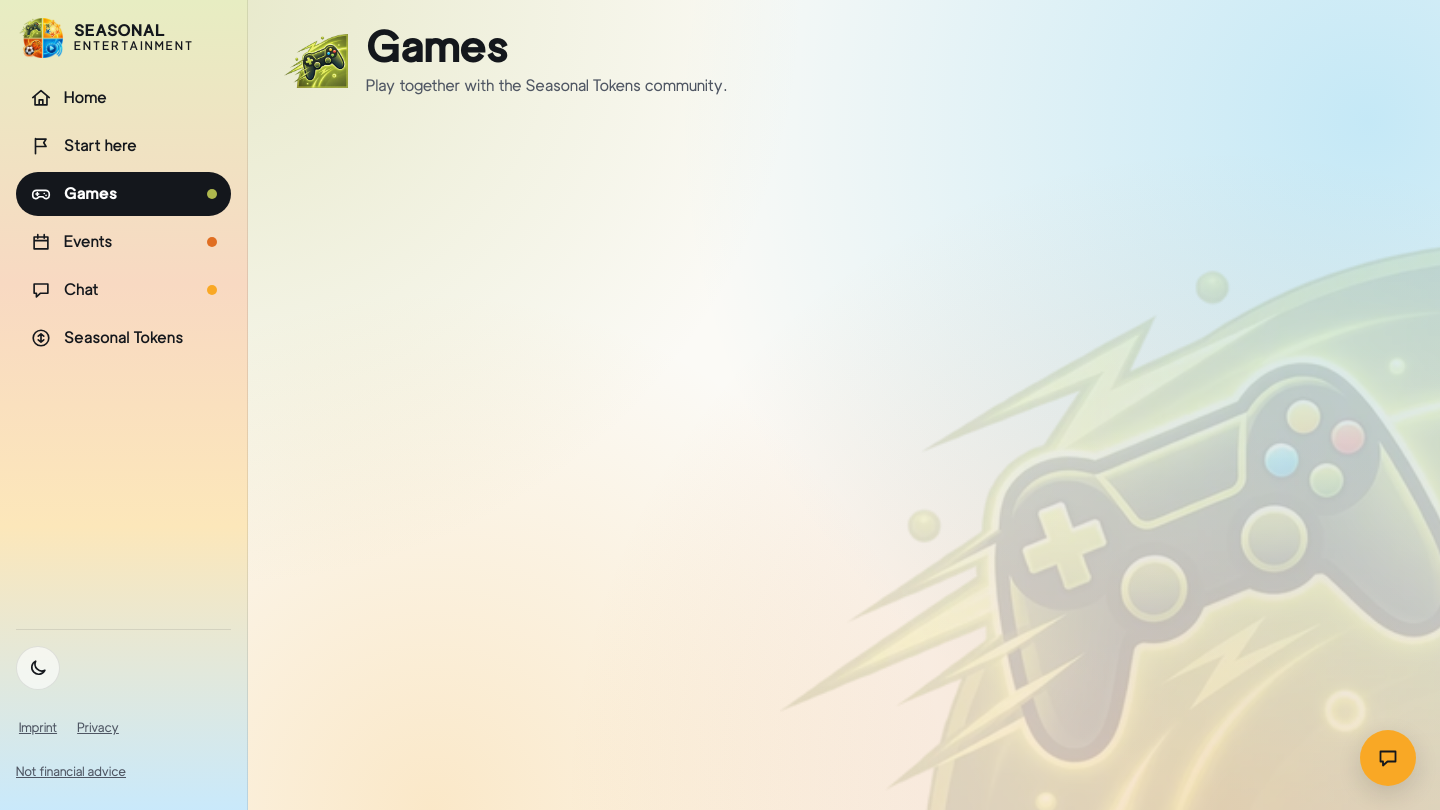
Scenario: a locked device asks to unlock in the Direct tab
What coordinates should you click on to do the following:
click the button named "Chat"
I would click on:
 (1388, 758)
Its box is [1360,730,1416,786].
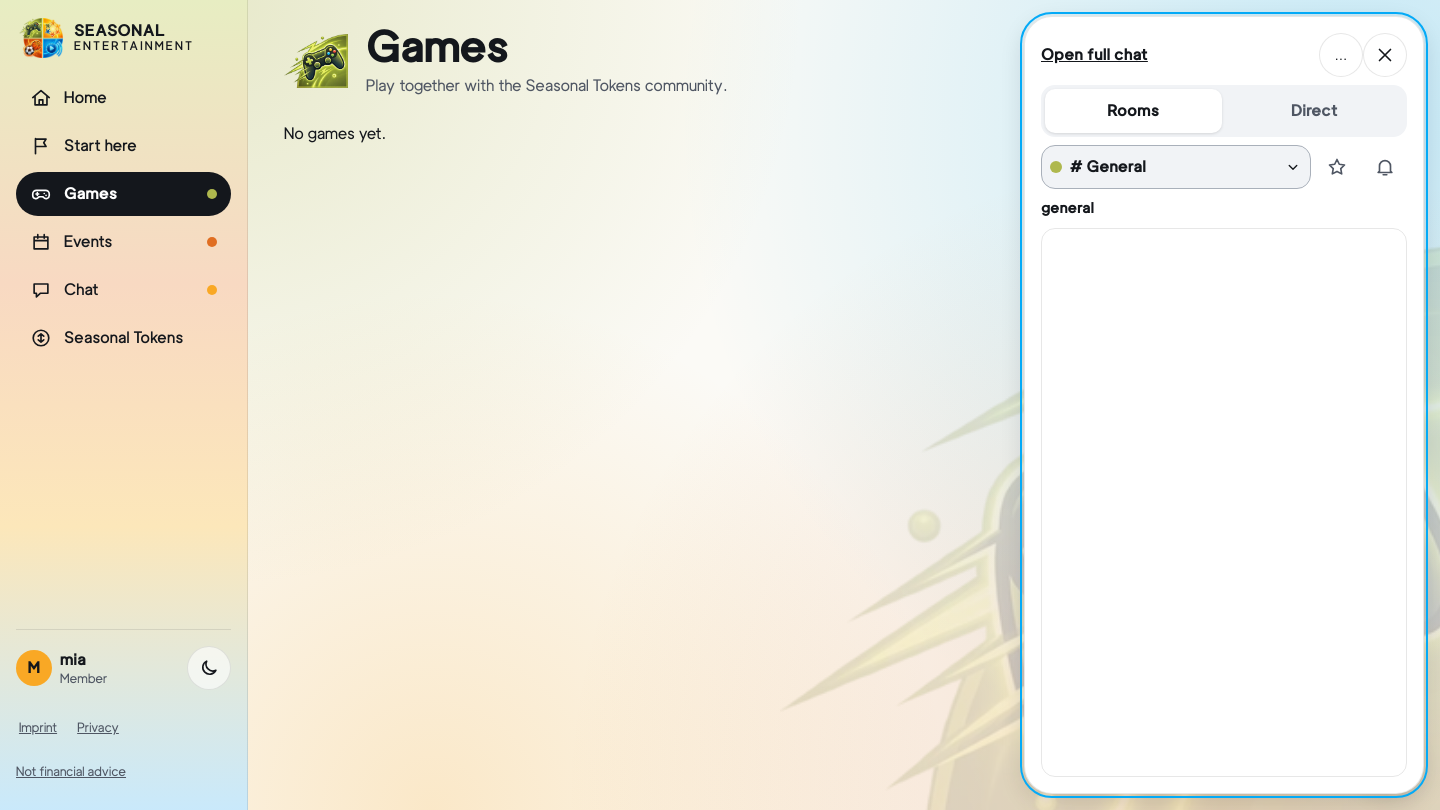
What coordinates should you click on to do the following:
click the tab "Direct"
I would click on:
 (1314, 111)
Its box is [1226,89,1403,133].
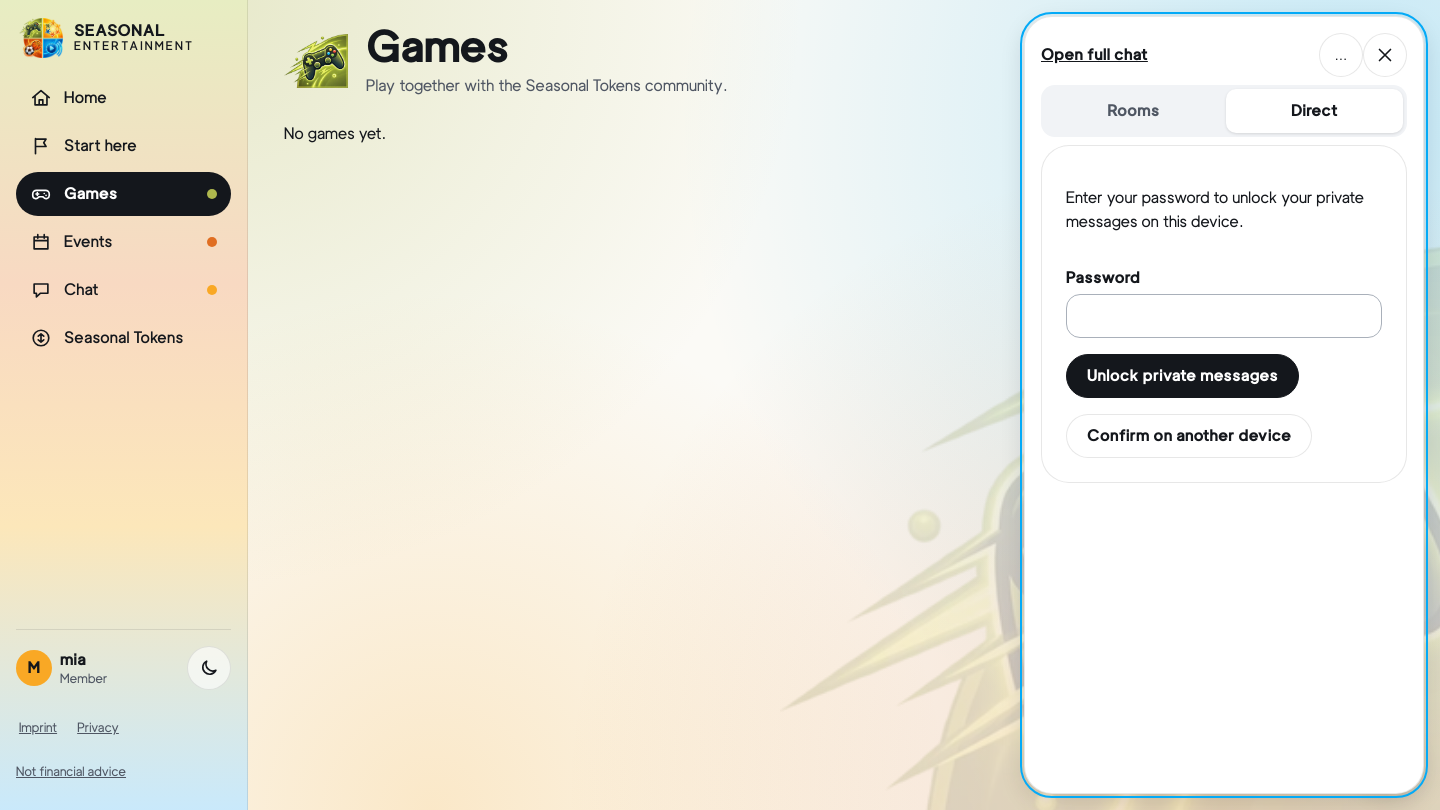
Expected: the button "Unlock private messages" is shown, [1066,354,1299,398]
